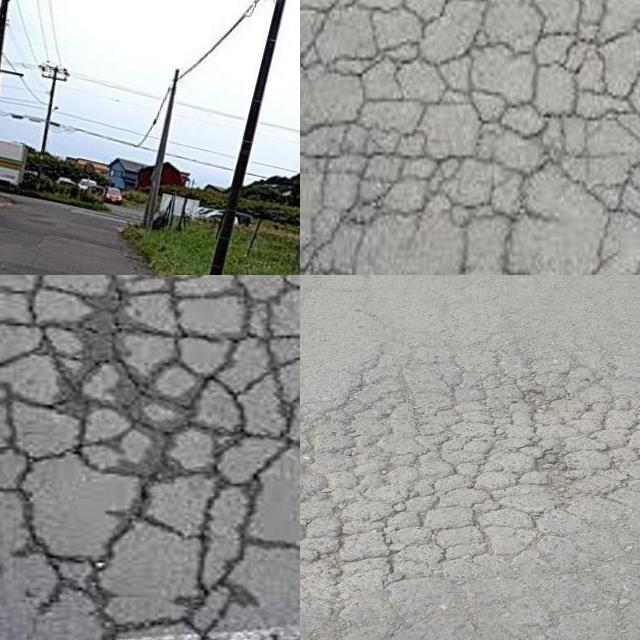Retak Buaya: (0, 275, 300, 640), (300, 0, 640, 275), (300, 359, 640, 613)
